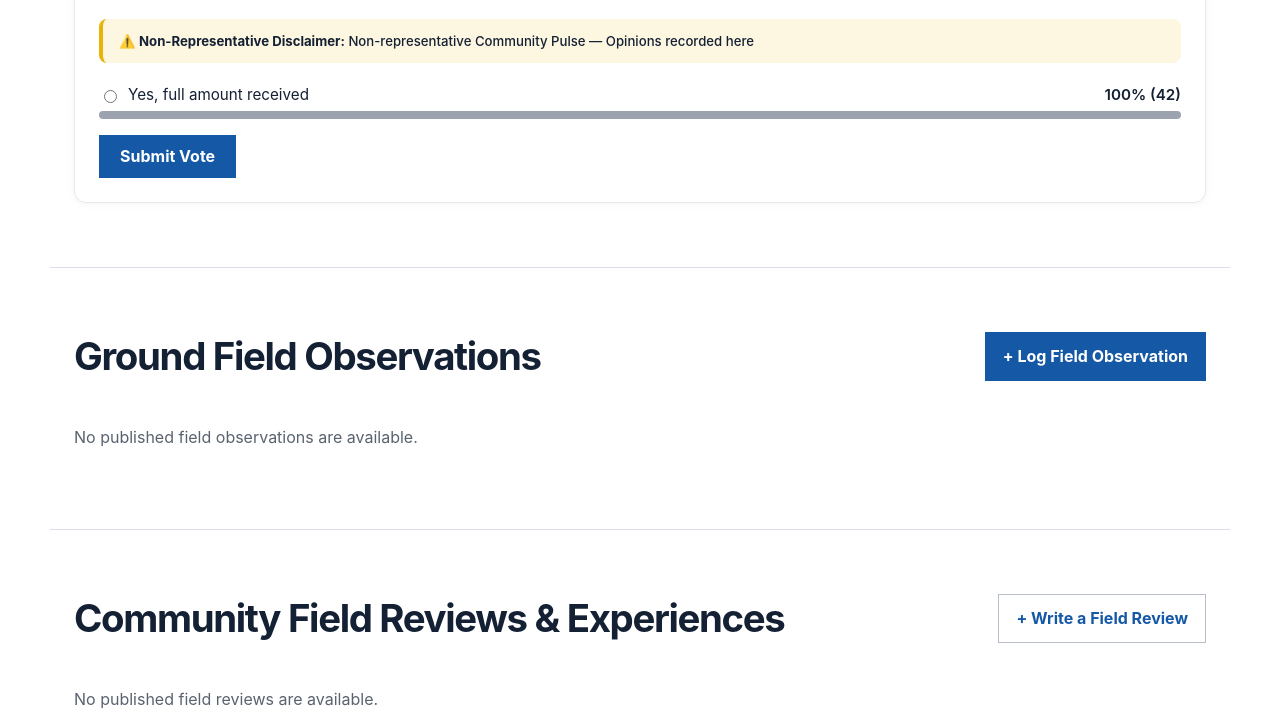
Test: CommunityContent › opens modal for logging citizen field observations
(page scrolled)
Click the button "+ Log Field Observation" at (1095, 356), box [985,332,1206,381]
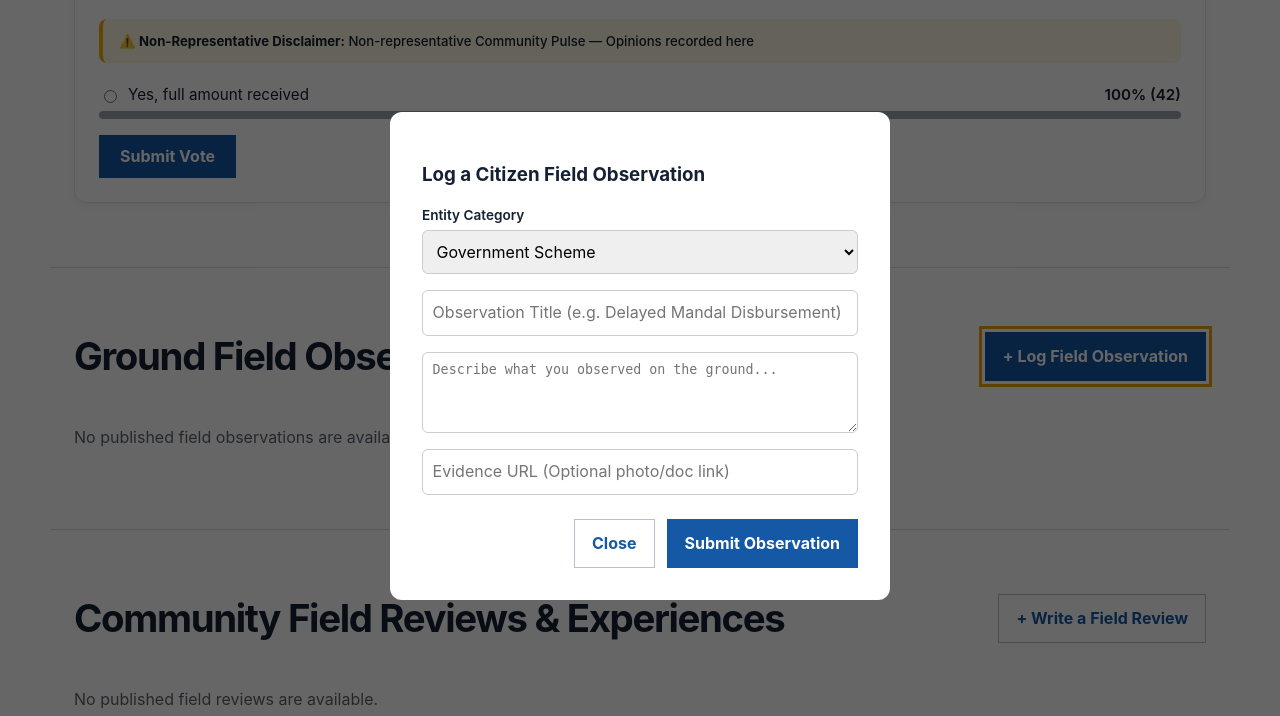
Result: the heading "Log a Citizen Field Observation" is shown at [422,163,705,186]
Result: the button "Submit Observation" is shown at [666,519,858,568]
